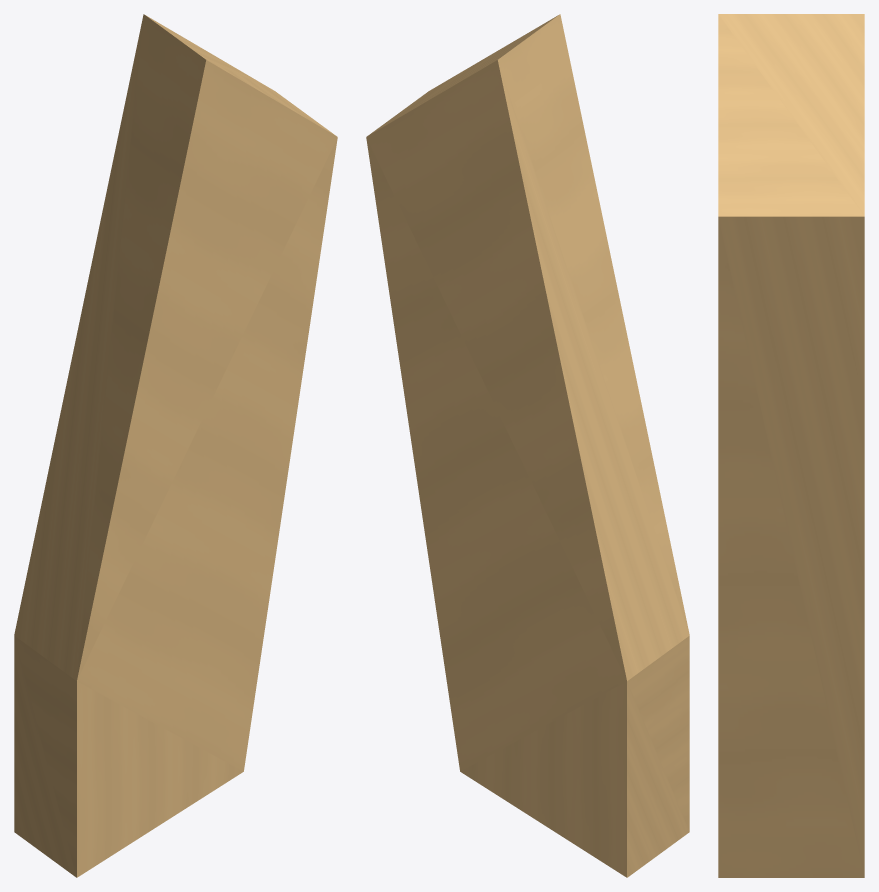
Rendered from Wood_Splinter.glb.
3 views of the same model, side by side, from view 1: azimuth 30°, elevation 25°; view 2: azimuth 150°, elevation 25°; view 3: azimuth 270°, elevation 25° (orthographic). The views are drawn at different scales.
Visible parts, largest first — view 1: Wood_Splinter; view 2: Wood_Splinter; view 3: Wood_Splinter.
Part boxes in pixels (bbox=[...]): Wood_Splinter: bbox=[14, 14, 337, 877]; Wood_Splinter: bbox=[366, 14, 689, 877]; Wood_Splinter: bbox=[718, 14, 864, 877].
Size of the model in its own units: 0.125 by 0.36 by 0.052.
1 material, 1 textured.
